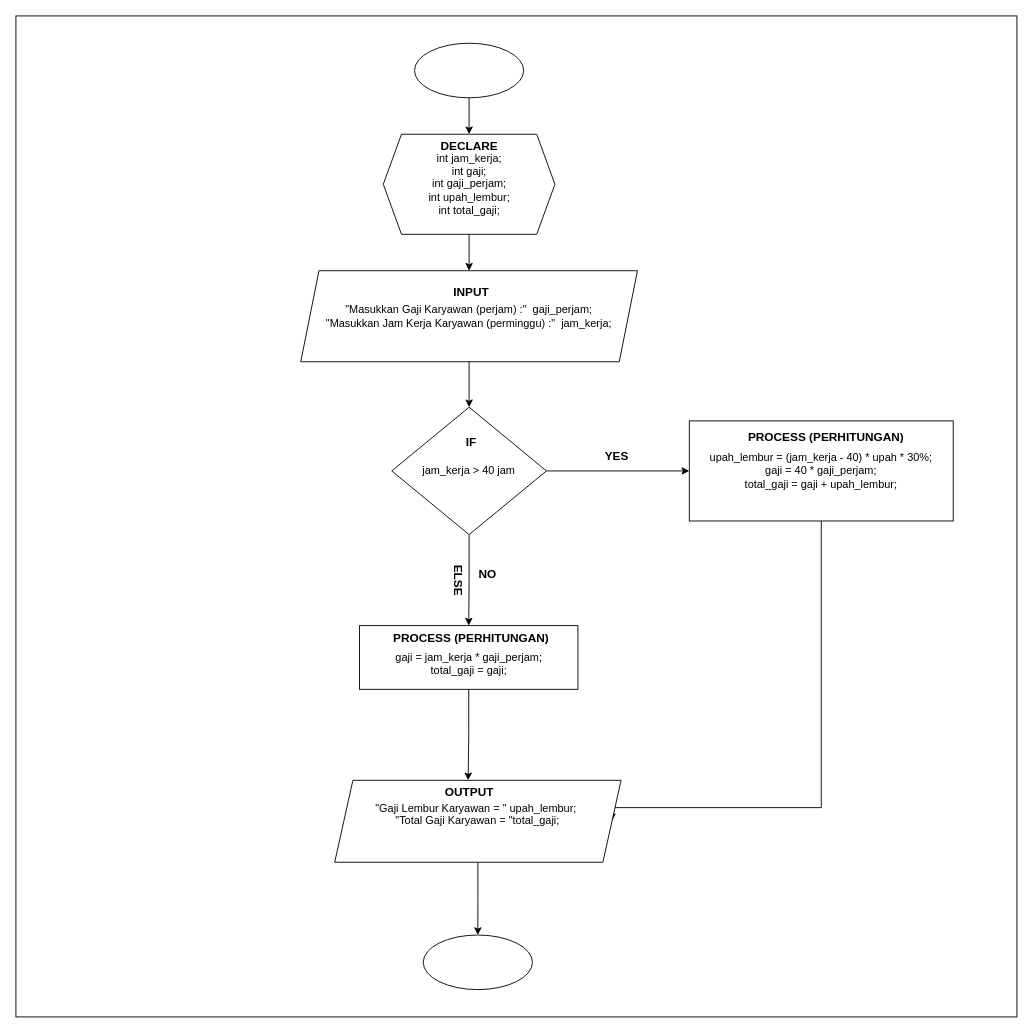
Image size: 1033x1033. Some labels were removed from this diagram. Here are the shapes that lost their labels. From the top down, the centre of each, then its label:
At point (469, 70): "START".
At point (477, 962): "END".
